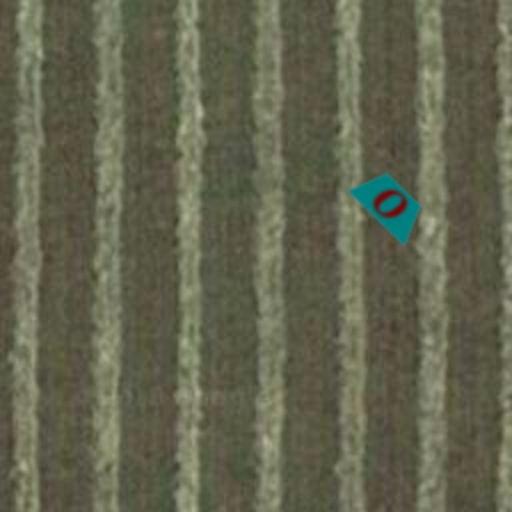trapezoid: (332, 146, 448, 262)
